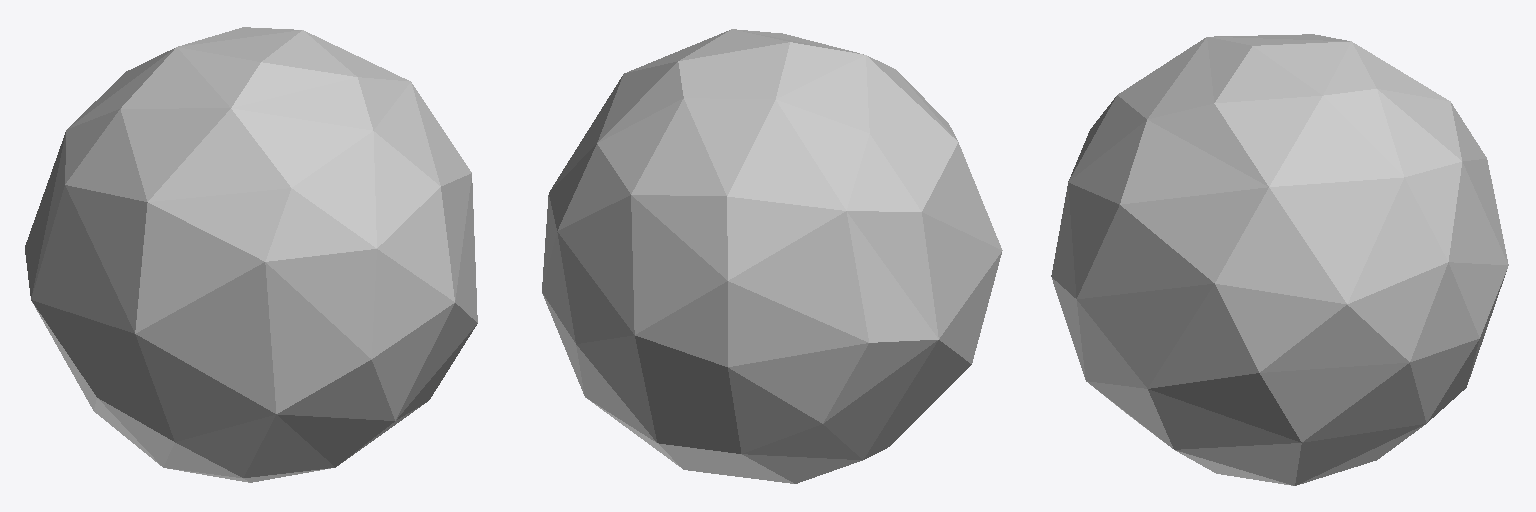
File: land.obj
3 renders of one model, left to right at view 1: azimuth 30°, elevation 25°; view 2: azimuth 150°, elevation 25°; view 3: azimuth 270°, elevation 25°, orthographic.
Parts seen in each view (by area): view 1: Sphere_Sphere.002; view 2: Sphere_Sphere.002; view 3: Sphere_Sphere.002.
Boxes of the visible parts, <box> form: Sphere_Sphere.002: <box>25,27,477,482</box>; Sphere_Sphere.002: <box>542,29,1002,483</box>; Sphere_Sphere.002: <box>1051,34,1508,485</box>.
Bounding box in the file's own units: 2.02 × 2.01 × 2.02.